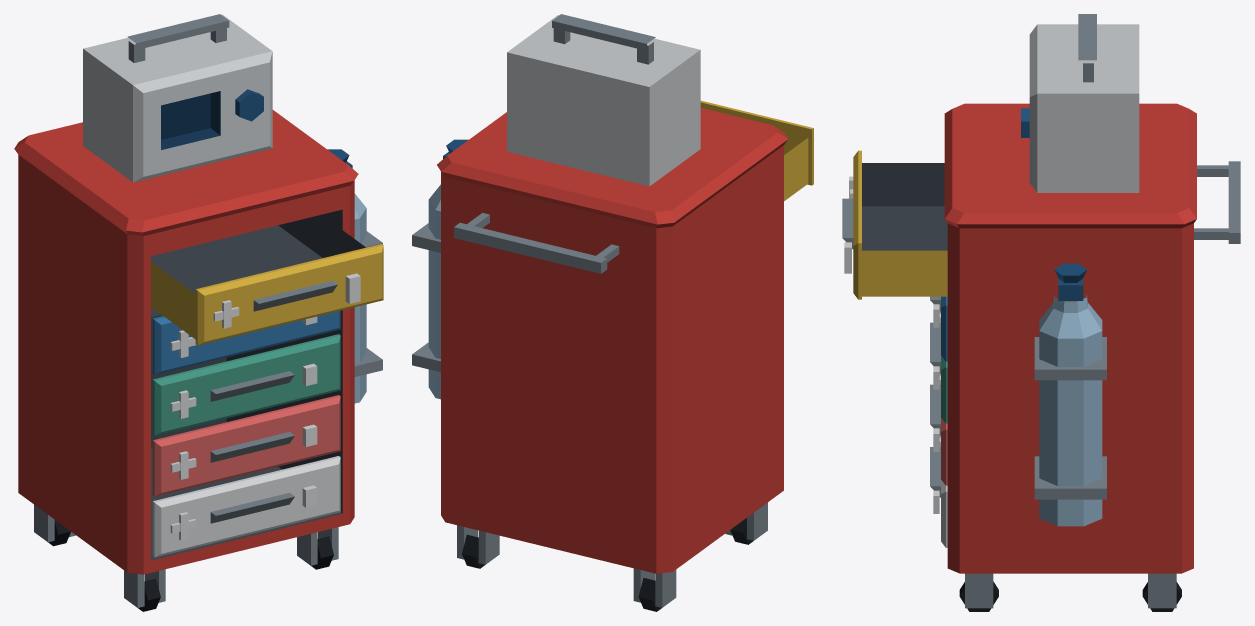
Rendered from crash-cart-201b46.glb.
3 views of the same model, side by side, from view 1: azimuth 30°, elevation 25°; view 2: azimuth 150°, elevation 25°; view 3: azimuth 270°, elevation 25° (orthographic). The views are drawn at different scales.
Visible parts, largest first — view 1: crash-cart, defibrillator, drawer-1, oxygen-tank; view 2: crash-cart, defibrillator, drawer-1, oxygen-tank; view 3: crash-cart, defibrillator, drawer-1, oxygen-tank.
Boxes of the visible parts, bbox=[...] form: crash-cart: bbox=[14, 110, 382, 611]; defibrillator: bbox=[83, 14, 272, 182]; drawer-1: bbox=[151, 214, 383, 345]; oxygen-tank: bbox=[327, 149, 366, 403]; crash-cart: bbox=[412, 108, 787, 611]; defibrillator: bbox=[507, 14, 700, 186]; drawer-1: bbox=[700, 100, 813, 200]; oxygen-tank: bbox=[428, 139, 468, 399]; crash-cart: bbox=[930, 103, 1240, 611]; defibrillator: bbox=[1021, 14, 1139, 192]; drawer-1: bbox=[842, 150, 947, 299]; oxygen-tank: bbox=[1039, 263, 1102, 526].
Bounding box in the file's own units: 0.634 × 1.06 × 0.727.
